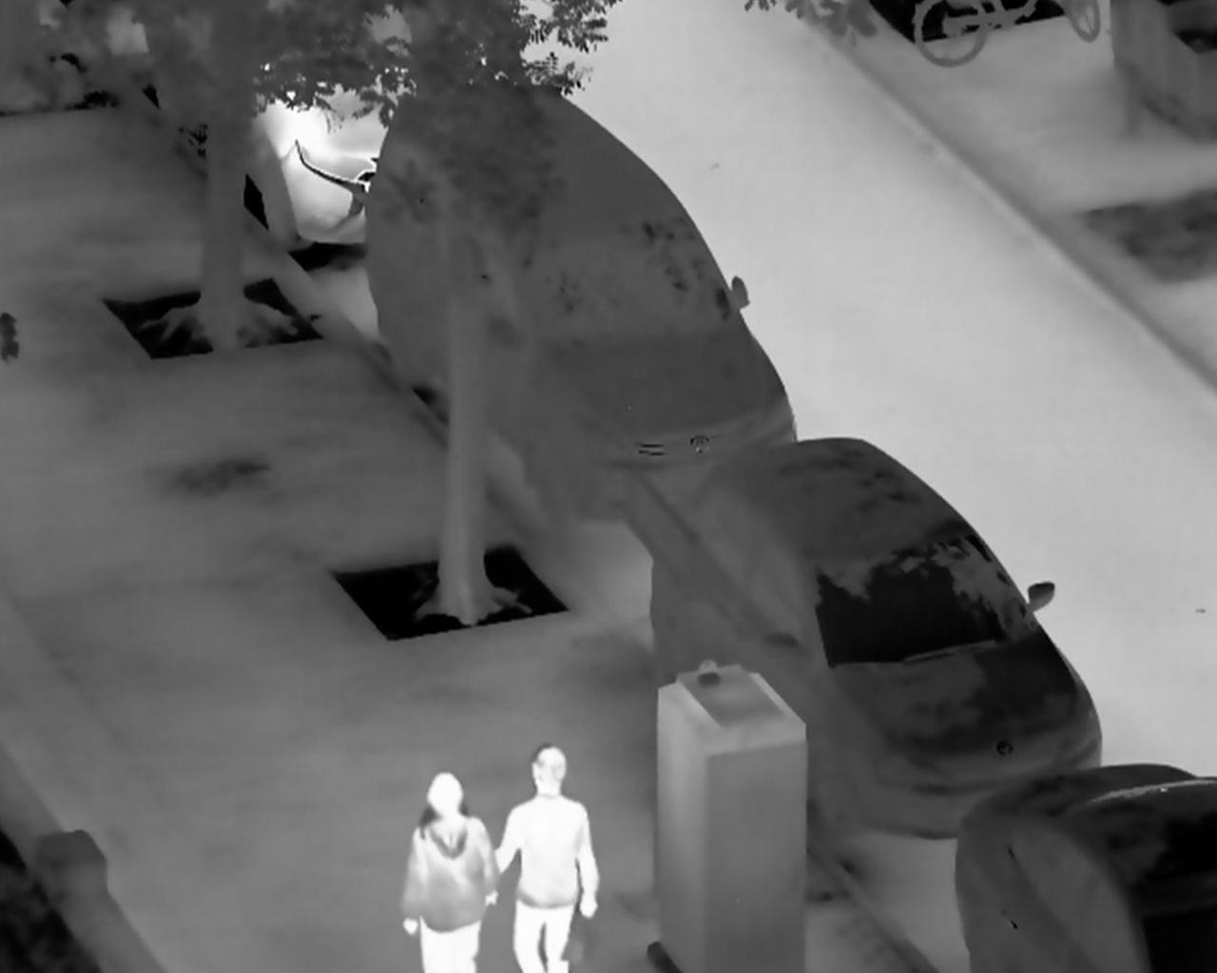person: (493, 743, 601, 973), (398, 769, 498, 973)
